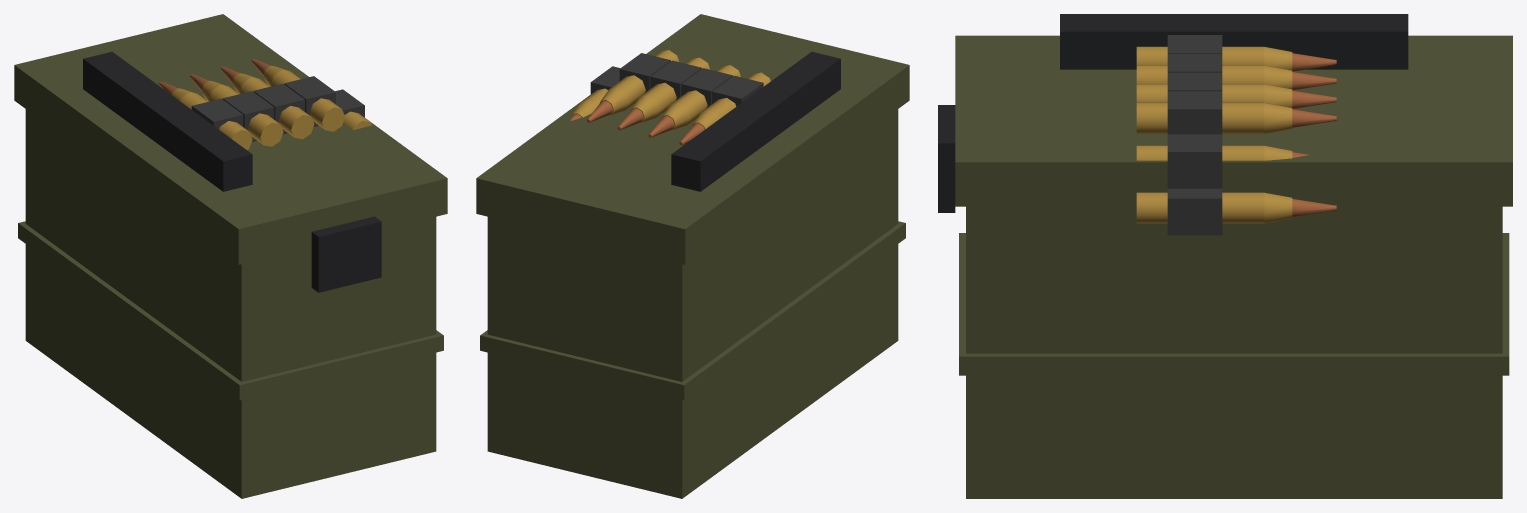
3 renders of one model, left to right at view 1: azimuth 30°, elevation 25°; view 2: azimuth 150°, elevation 25°; view 3: azimuth 270°, elevation 25°, orthographic. The views are drawn at different scales.
Parts seen in each view (by area): view 1: box-m249; view 2: box-m249; view 3: box-m249.
Boxes of the visible parts, x1,y1,x2,y2 form: box-m249: [14, 14, 447, 498]; box-m249: [476, 14, 909, 498]; box-m249: [938, 14, 1512, 498].
Size of the model in its own units: 0.0931 by 0.12 by 0.165.
Materials: 1 (1 with a texture image).
